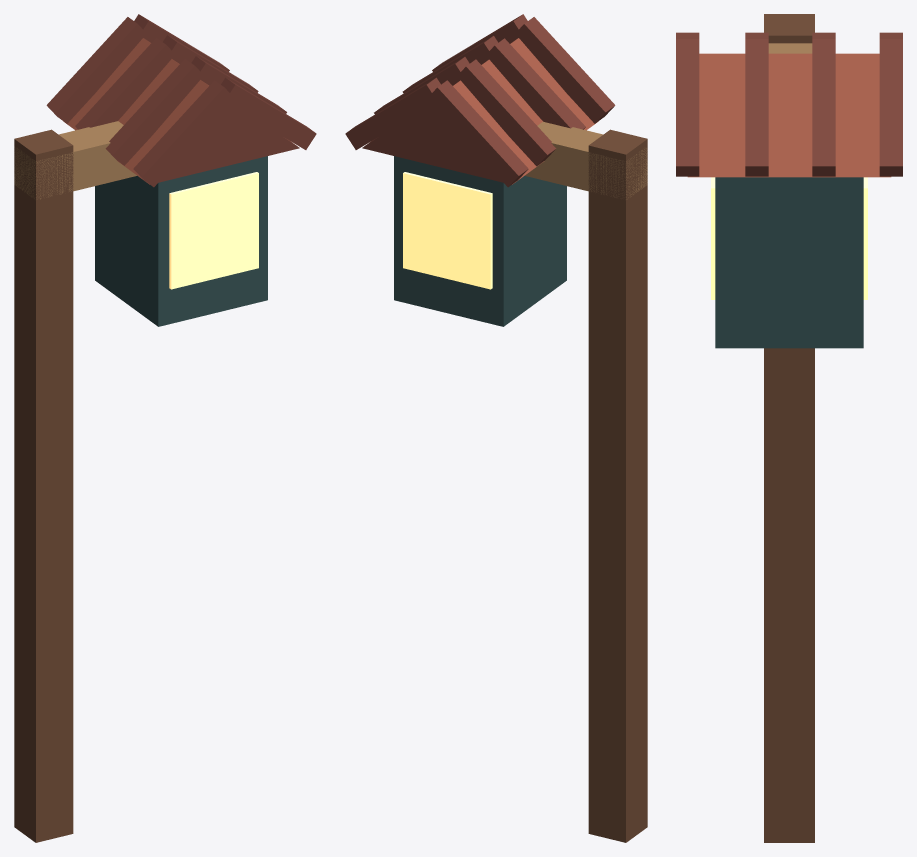
File: lantern.glb
3 renders of one model, left to right at view 1: azimuth 30°, elevation 25°; view 2: azimuth 150°, elevation 25°; view 3: azimuth 270°, elevation 25°, orthographic. The views are drawn at different scales.
Parts seen in each view (by area): view 1: lantern; view 2: lantern; view 3: lantern.
Boxes of the visible parts, bbox=[...] form: lantern: bbox=[14, 14, 316, 842]; lantern: bbox=[345, 14, 647, 842]; lantern: bbox=[676, 14, 902, 842].
Bounding box in the file's own units: 0.7773 × 2.28 × 0.535.
